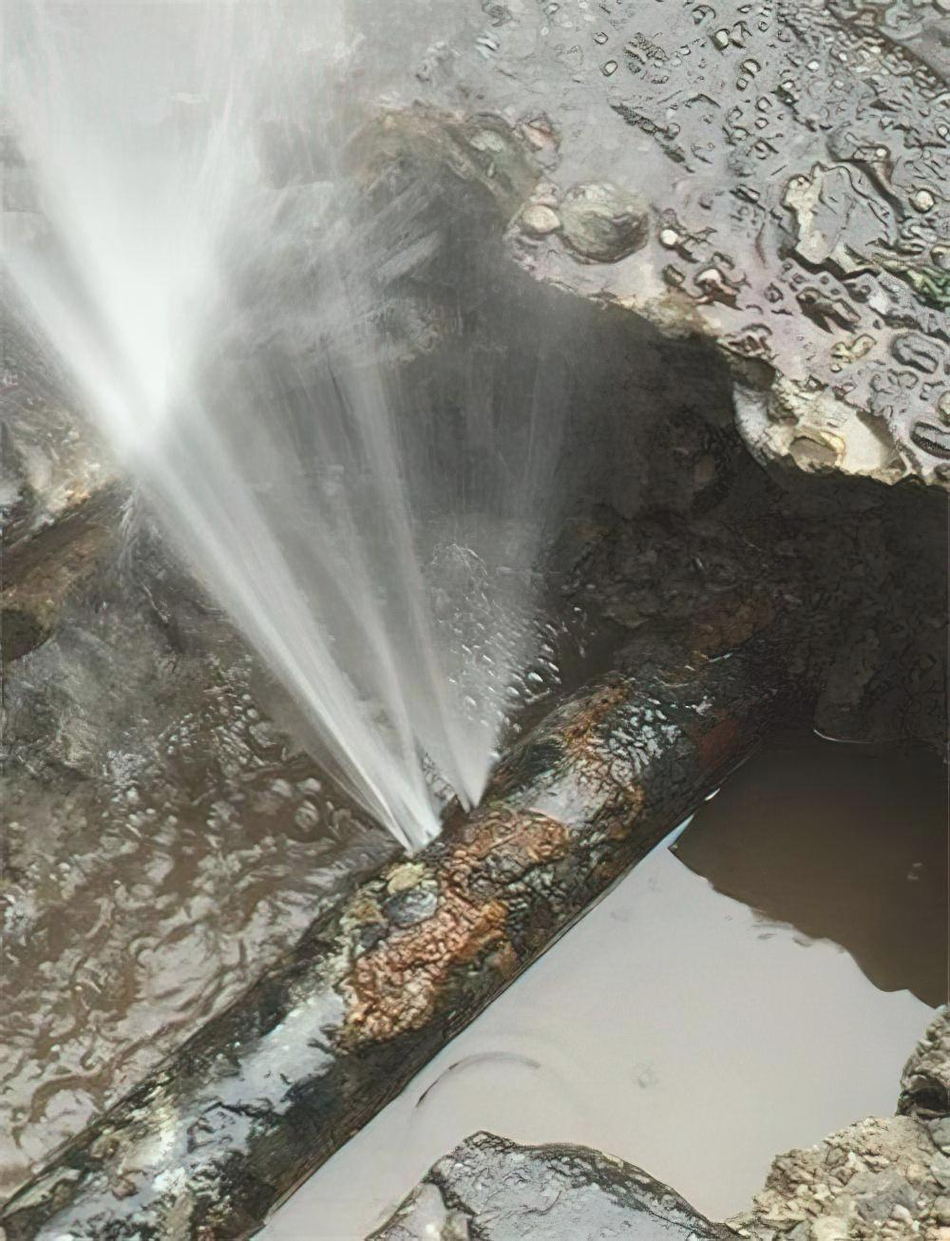pipe burst: (3, 7, 552, 865)
water accumulation: (0, 558, 950, 1241)
